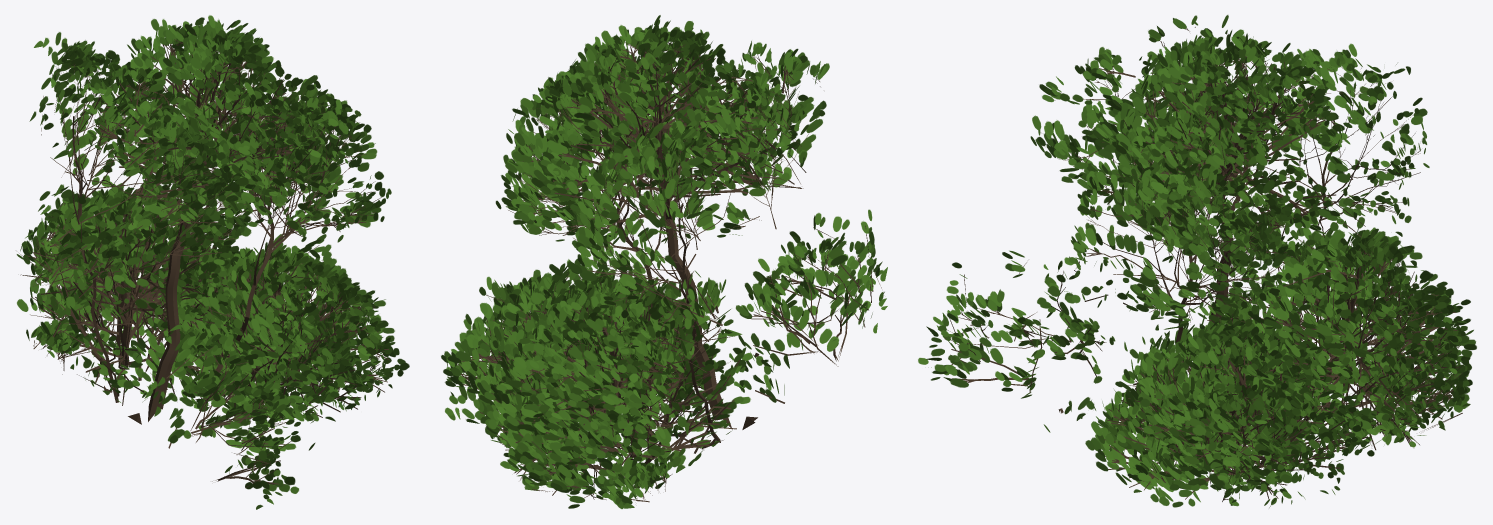
The picture shows the model from 3 angles, left to right: view 1: azimuth 30°, elevation 25°; view 2: azimuth 150°, elevation 25°; view 3: azimuth 270°, elevation 25°; orthographic projection. The views are drawn at different scales.
Parts seen in each view (by area): view 1: oak 01.001_trunk_Mat.001_0.466; view 2: oak 01.001_trunk_Mat.001_0.466; view 3: oak 01.001_trunk_Mat.001_0.466.
Boxes of the visible parts, x1,y1,x2,y2 form: oak 01.001_trunk_Mat.001_0.466: (16,15,409,509); oak 01.001_trunk_Mat.001_0.466: (441,15,887,508); oak 01.001_trunk_Mat.001_0.466: (918,15,1476,507).
Bounding box in the file's own units: 2.59 × 3.39 × 4.21.
2 materials, 1 textured.
